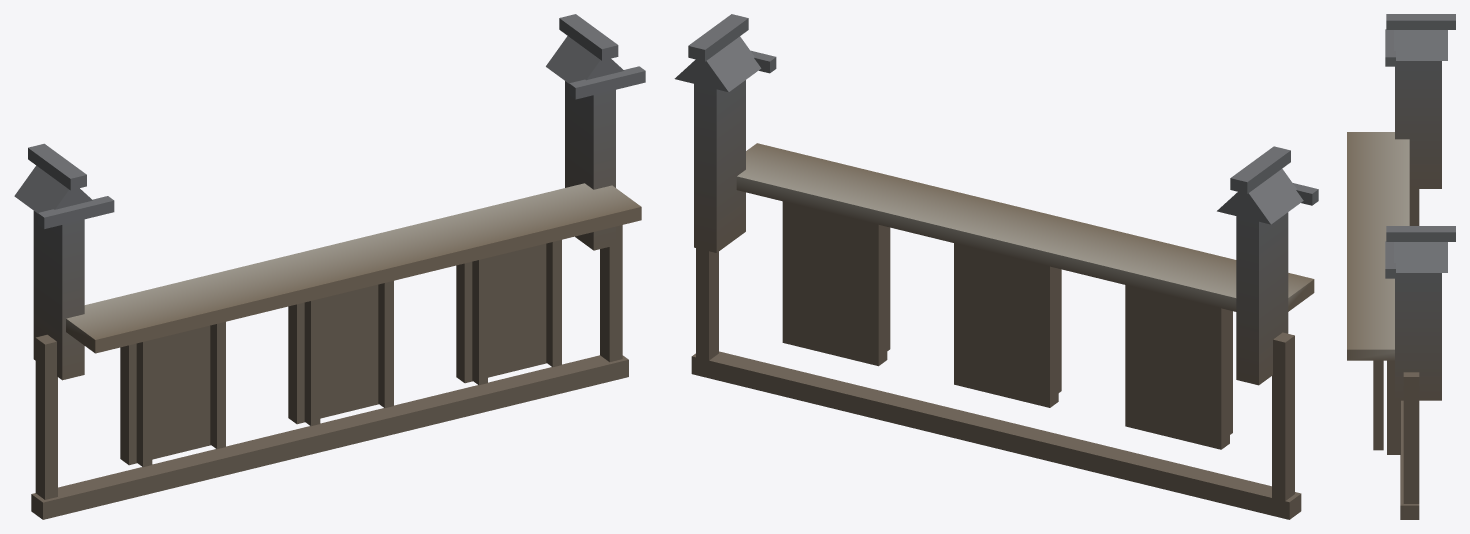
Rendered from roofline_udatsu.glb.
3 renders of one model, left to right at view 1: azimuth 30°, elevation 25°; view 2: azimuth 150°, elevation 25°; view 3: azimuth 270°, elevation 25°, orthographic. The views are drawn at different scales.
Visible parts, largest first — view 1: roofline_udatsu; view 2: roofline_udatsu; view 3: roofline_udatsu.
Boxes of the visible parts, box(x1,y1,x2,y2) form: roofline_udatsu: box(14, 14, 645, 519); roofline_udatsu: box(674, 14, 1318, 519); roofline_udatsu: box(1347, 14, 1455, 519).
Bounding box in the file's own units: 6.52 × 3.55 × 1.25.
